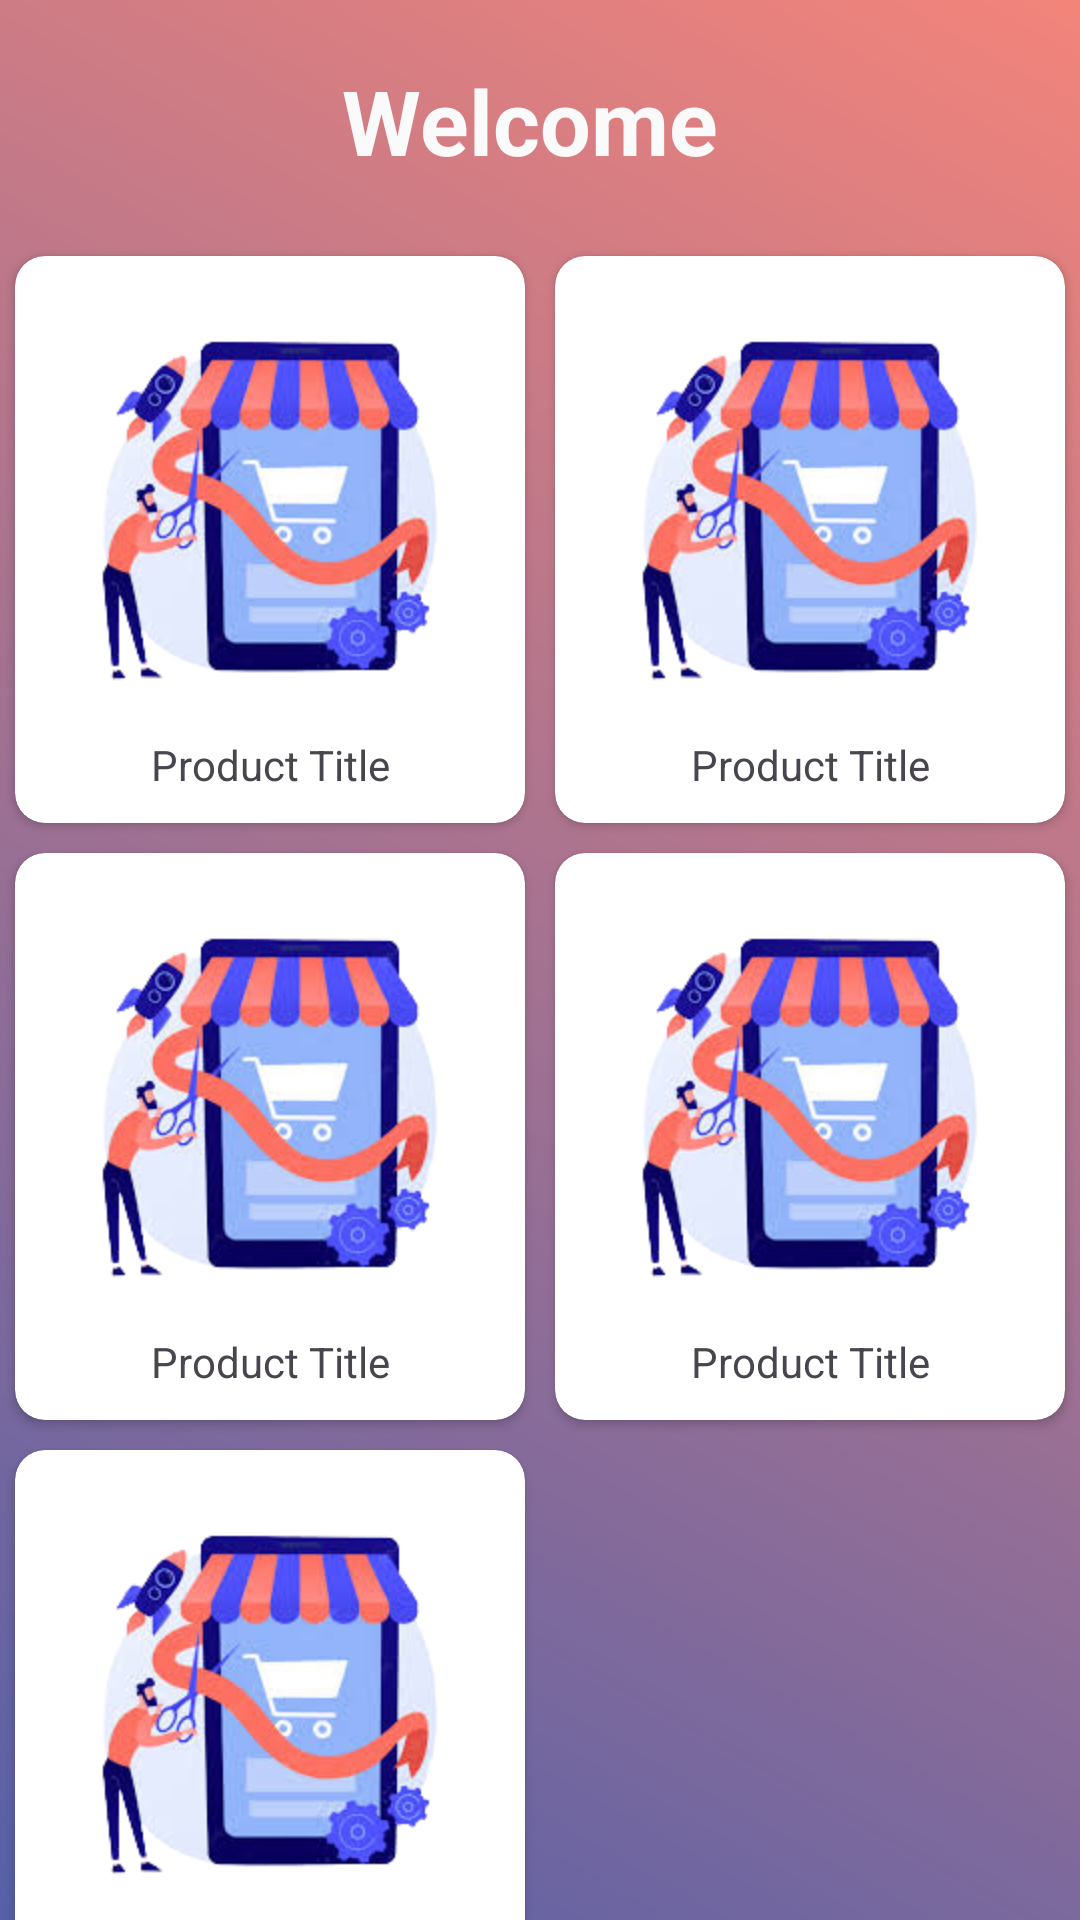

Icons on this 1080 x 1920 Android screen, each with its box as (x1, y1, x2, y2):
ribboncut: (102, 341, 435, 680), (642, 341, 975, 680), (102, 938, 435, 1277), (642, 938, 975, 1277), (102, 1535, 435, 1874)
